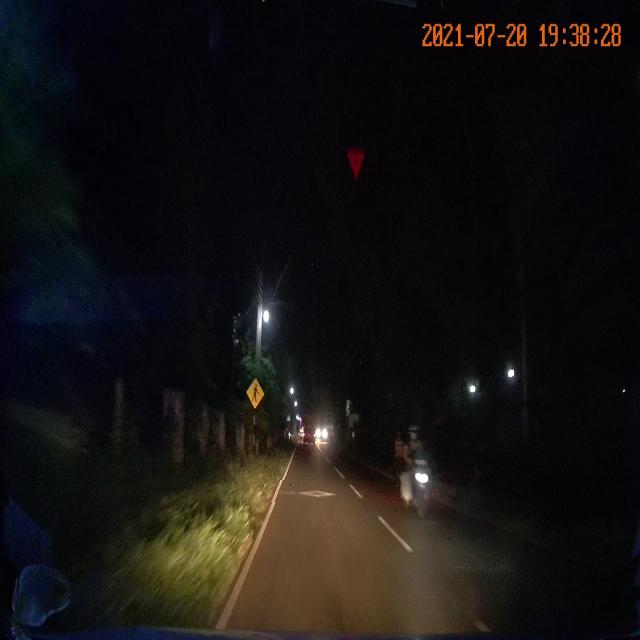diamond: (269, 481, 367, 502)
